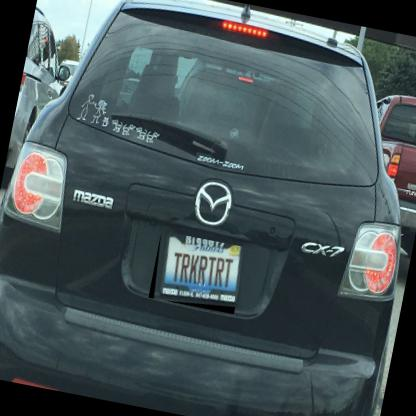Plates: (147, 230, 247, 315)
